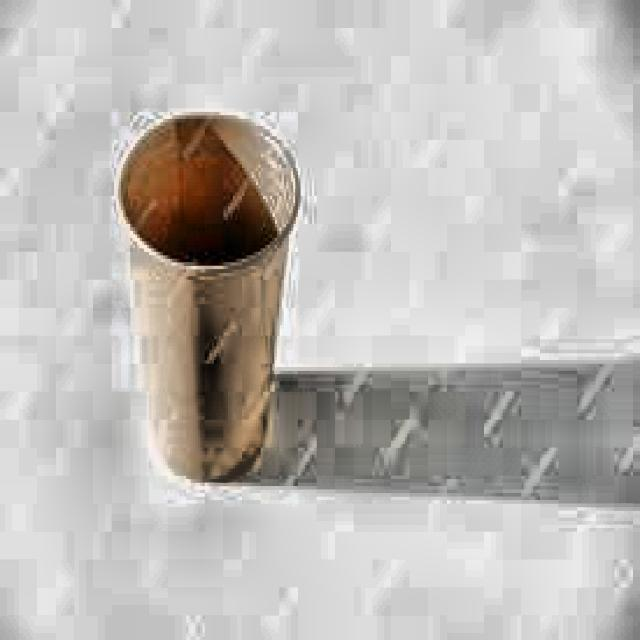Cup: (110, 105, 309, 496)
